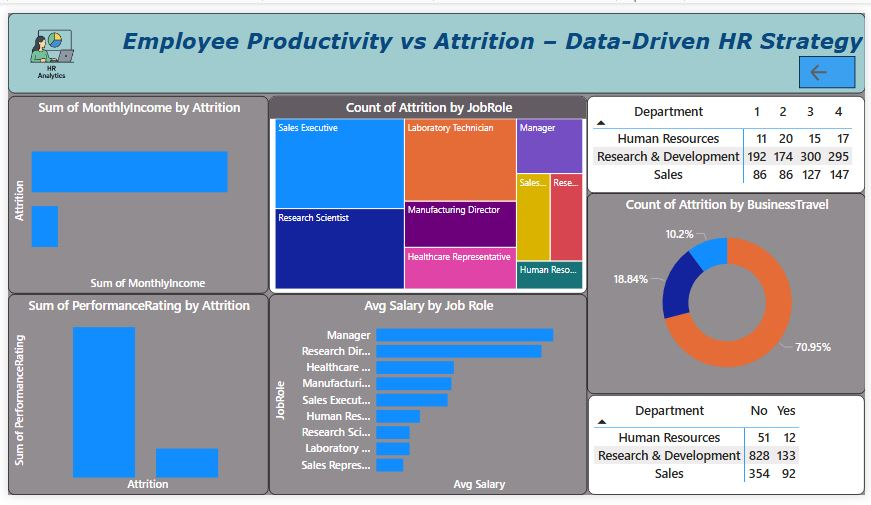

The page's visual inventory and layout, read from the dashboard file:
{"tool":"powerbi","page":{"name":"Deep Dive","canvas":[1280,720],"ordinal":1},"visuals":[{"type":"textbox","box":[0,0,1280,120],"z":0},{"type":"image","box":[18.4,8.6,91.4,102.5],"z":1000},{"type":"columnChart","fields":{"Y":["Sum(HR-Employee-Attrition.PerformanceRating)"],"Category":["HR-Employee-Attrition.Attrition"]},"box":[0,420,389.2,300],"z":2000},{"type":"pivotTable","fields":{"Columns":["HR-Employee-Attrition.JobSatisfaction"],"Rows":["HR-Employee-Attrition.Department"],"Values":["Sum(HR-Employee-Attrition.EmployeeCount)"]},"box":[864.6,124.6,415.4,144.6],"z":3000},{"type":"barChart","fields":{"Y":["Sum(HR-Employee-Attrition.MonthlyIncome)"],"Category":["HR-Employee-Attrition.Attrition"]},"box":[0,124.6,389.2,295.4],"z":4000},{"type":"treemap","fields":{"Values":["CountNonNull(HR-Employee-Attrition.Attrition)"],"Group":["HR-Employee-Attrition.JobRole"]},"box":[389.3,124.6,475.4,295.2],"z":5000},{"type":"barChart","title":"Avg Salary by Job Role","fields":{"Y":["HR-Employee-Attrition.Avg Salary"],"Category":["HR-Employee-Attrition.JobRole"]},"box":[389.6,419.4,474.6,300],"z":6000},{"type":"donutChart","fields":{"Category":["HR-Employee-Attrition.BusinessTravel"],"Y":["CountNonNull(HR-Employee-Attrition.Attrition)"]},"box":[864.2,268.7,416.4,300],"z":7000},{"type":"actionButton","box":[1180.6,64.2,83.6,47.8],"z":7001},{"type":"pivotTable","fields":{"Rows":["HR-Employee-Attrition.Department"],"Values":["Sum(HR-Employee-Attrition.EmployeeCount)"],"Columns":["HR-Employee-Attrition.Attrition"]},"box":[865.7,570.1,413.4,149.3],"z":7002}]}

Visuals, with their boxes in screenshot pixels (x1, y1, x2, y2), scaled from the page's 1280x720 canvas onto the 871x505 screenshot:
textbox: 0 0 870 84
image: 13 6 75 78
columnChart - Sum(HR-Employee-Attrition.PerformanceRating) x HR-Employee-Attrition.Attrition: 0 295 265 504
pivotTable - HR-Employee-Attrition.JobSatisfaction x HR-Employee-Attrition.Department: 588 87 870 189
barChart - Sum(HR-Employee-Attrition.MonthlyIncome) x HR-Employee-Attrition.Attrition: 0 87 265 295
treemap - CountNonNull(HR-Employee-Attrition.Attrition) x HR-Employee-Attrition.JobRole: 265 87 588 294
"Avg Salary by Job Role" barChart: 265 294 588 504
donutChart - HR-Employee-Attrition.BusinessTravel x CountNonNull(HR-Employee-Attrition.Attrition): 588 188 870 399
actionButton: 803 45 860 79
pivotTable - HR-Employee-Attrition.Department x Sum(HR-Employee-Attrition.EmployeeCount): 589 400 870 504
